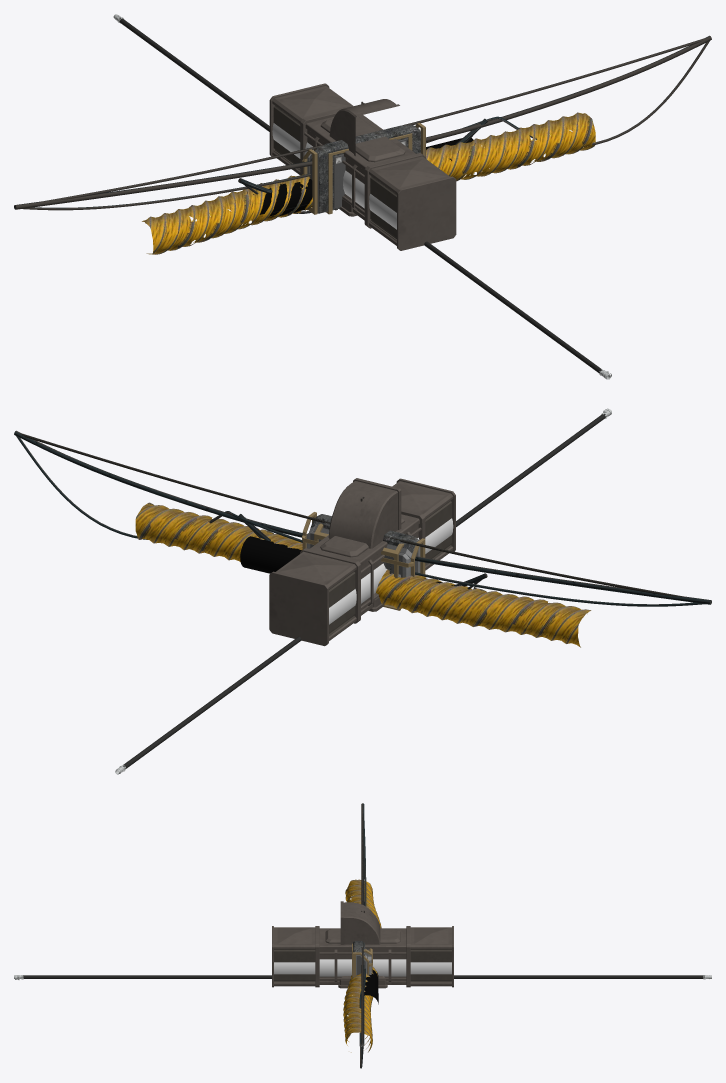
The model's file is werkdecke.glb.
The picture shows the model from 3 angles, top to bottom: view 1: azimuth 30°, elevation 25°; view 2: azimuth 150°, elevation 25°; view 3: azimuth 270°, elevation 25°; orthographic projection. The views are drawn at different scales.
Parts seen in each view (by area): view 1: prop_decke_addon_hvac_straight_01x04x01_a, prop_schlauch_lt_airduct_hose_straight_8m_a, prop_decke_cable_hanging_h, prop_wand_relay_electrical_2_a, prop_schlauch_maintenance_hose_1_a, prop_decke_addon_hvac_vent_a, prop_wand_pipe_air_processing_1_straight_01x01x04_a, prop_kabel_cables_a_12x01x01_a, prop_wand_roomsm_addon_pipe_bottom_b, prop_wand_relay_electrical_3_a; view 2: prop_schlauch_lt_airduct_hose_straight_8m_a, prop_decke_addon_hvac_straight_01x04x01_a, prop_kabel_cables_a_12x01x01_a, prop_decke_addon_hvac_vent_a, prop_schlauch_maintenance_hose_1_a, prop_wand_relay_electrical_2_a, prop_decke_cable_hanging_h, prop_wand_roomsm_addon_pipe_bottom_b, prop_wand_pipe_air_processing_1_straight_01x01x04_a; view 3: prop_decke_addon_hvac_straight_01x04x01_a, prop_wand_pipe_air_processing_1_straight_01x01x04_a, prop_schlauch_maintenance_hose_1_a, prop_schlauch_lt_airduct_hose_straight_8m_a, prop_decke_addon_hvac_vent_a, prop_kabel_cables_a_12x01x01_a, prop_decke_cable_hanging_h, prop_wand_relay_electrical_2_a.
Boxes of the visible parts, bbox=[...] form: prop_decke_addon_hvac_straight_01x04x01_a: bbox=[269, 83, 456, 250]; prop_schlauch_lt_airduct_hose_straight_8m_a: bbox=[142, 112, 595, 254]; prop_decke_cable_hanging_h: bbox=[14, 36, 711, 210]; prop_wand_relay_electrical_2_a: bbox=[302, 123, 425, 214]; prop_schlauch_maintenance_hose_1_a: bbox=[113, 14, 611, 379]; prop_decke_addon_hvac_vent_a: bbox=[329, 99, 399, 216]; prop_wand_pipe_air_processing_1_straight_01x01x04_a: bbox=[272, 123, 396, 229]; prop_kabel_cables_a_12x01x01_a: bbox=[14, 36, 708, 209]; prop_wand_roomsm_addon_pipe_bottom_b: bbox=[253, 138, 473, 217]; prop_wand_relay_electrical_3_a: bbox=[314, 133, 412, 214]; prop_schlauch_lt_airduct_hose_straight_8m_a: bbox=[135, 502, 591, 647]; prop_decke_addon_hvac_straight_01x04x01_a: bbox=[269, 478, 455, 646]; prop_kabel_cables_a_12x01x01_a: bbox=[14, 431, 711, 606]; prop_decke_addon_hvac_vent_a: bbox=[328, 478, 401, 611]; prop_schlauch_maintenance_hose_1_a: bbox=[115, 408, 611, 774]; prop_wand_relay_electrical_2_a: bbox=[302, 512, 425, 610]; prop_decke_cable_hanging_h: bbox=[15, 430, 711, 604]; prop_wand_roomsm_addon_pipe_bottom_b: bbox=[240, 536, 453, 585]; prop_wand_pipe_air_processing_1_straight_01x01x04_a: bbox=[329, 518, 453, 624]; prop_decke_addon_hvac_straight_01x04x01_a: bbox=[272, 926, 453, 987]; prop_wand_pipe_air_processing_1_straight_01x01x04_a: bbox=[274, 959, 451, 976]; prop_schlauch_maintenance_hose_1_a: bbox=[14, 975, 711, 980]; prop_schlauch_lt_airduct_hose_straight_8m_a: bbox=[343, 879, 381, 1052]; prop_decke_addon_hvac_vent_a: bbox=[338, 901, 387, 988]; prop_kabel_cables_a_12x01x01_a: bbox=[359, 803, 366, 1068]; prop_decke_cable_hanging_h: bbox=[359, 803, 365, 1068]; prop_wand_relay_electrical_2_a: bbox=[353, 941, 372, 977].
Bounding box in the file's own units: 12.5 × 1.72 × 15.32.
46 materials, 40 textured.
